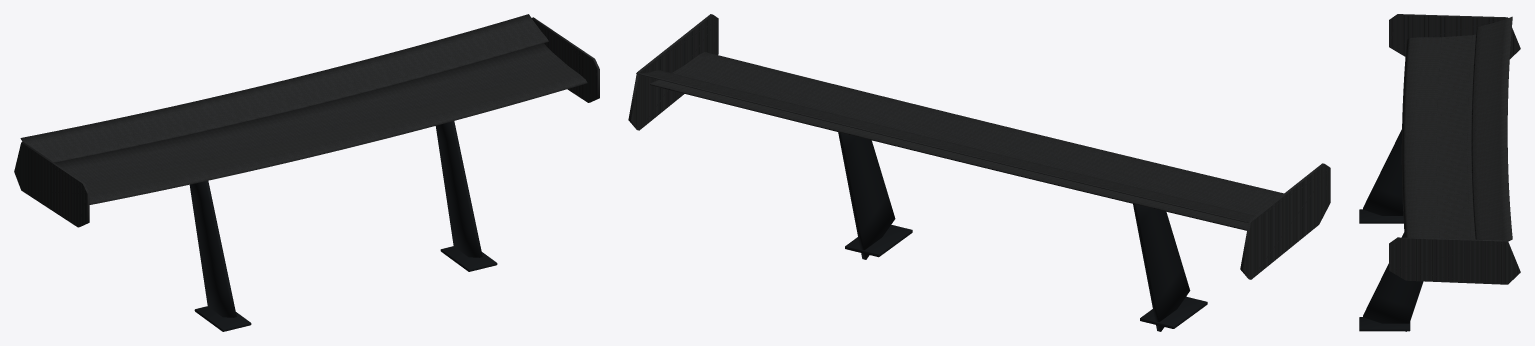
File: RA60_double_element_wing.glb
The picture shows the model from 3 angles, left to right: view 1: azimuth 30°, elevation 25°; view 2: azimuth 150°, elevation 25°; view 3: azimuth 270°, elevation 25°; orthographic projection. The views are drawn at different scales.
Parts seen in each view (by area): view 1: MOD_NB_RA60_main, MOD_NB_RA60_flap, MOD_NB_RA60_endplate_R, MOD_NB_RA60_upright_R, MOD_NB_RA60_upright_L, MOD_NB_RA60_endplate_L, MOD_NB_RA60_foot_L, MOD_NB_RA60_foot_R; view 2: MOD_NB_RA60_main, MOD_NB_RA60_flap, MOD_NB_RA60_endplate_R, MOD_NB_RA60_upright_R, MOD_NB_RA60_upright_L, MOD_NB_RA60_endplate_L, MOD_NB_RA60_foot_L, MOD_NB_RA60_foot_R; view 3: MOD_NB_RA60_main, MOD_NB_RA60_flap, MOD_NB_RA60_endplate_L, MOD_NB_RA60_endplate_R, MOD_NB_RA60_upright_L, MOD_NB_RA60_upright_R, MOD_NB_RA60_foot_L, MOD_NB_RA60_foot_R.
Part boxes in pixels (bbox=[...]): MOD_NB_RA60_main: bbox=[55, 43, 587, 204]; MOD_NB_RA60_flap: bbox=[20, 14, 548, 162]; MOD_NB_RA60_endplate_R: bbox=[14, 142, 89, 227]; MOD_NB_RA60_upright_R: bbox=[189, 181, 236, 317]; MOD_NB_RA60_upright_L: bbox=[435, 121, 482, 257]; MOD_NB_RA60_endplate_L: bbox=[531, 17, 599, 102]; MOD_NB_RA60_foot_L: bbox=[440, 246, 497, 271]; MOD_NB_RA60_foot_R: bbox=[194, 306, 251, 331]; MOD_NB_RA60_main: bbox=[650, 52, 1283, 230]; MOD_NB_RA60_flap: bbox=[636, 70, 1255, 222]; MOD_NB_RA60_endplate_R: bbox=[1240, 163, 1330, 279]; MOD_NB_RA60_upright_R: bbox=[1133, 204, 1190, 331]; MOD_NB_RA60_upright_L: bbox=[838, 132, 895, 259]; MOD_NB_RA60_endplate_L: bbox=[628, 14, 718, 130]; MOD_NB_RA60_foot_L: bbox=[845, 225, 912, 257]; MOD_NB_RA60_foot_R: bbox=[1140, 296, 1207, 328]; MOD_NB_RA60_main: bbox=[1401, 34, 1475, 239]; MOD_NB_RA60_flap: bbox=[1471, 16, 1512, 241]; MOD_NB_RA60_endplate_L: bbox=[1389, 237, 1520, 284]; MOD_NB_RA60_endplate_R: bbox=[1389, 14, 1520, 59]; MOD_NB_RA60_upright_L: bbox=[1363, 232, 1423, 331]; MOD_NB_RA60_upright_R: bbox=[1363, 129, 1403, 215]; MOD_NB_RA60_foot_L: bbox=[1359, 317, 1410, 331]; MOD_NB_RA60_foot_R: bbox=[1359, 209, 1403, 223].
Bounding box in the file's own units: 1.25 × 0.3931 × 0.38.
2 materials, 1 textured.
